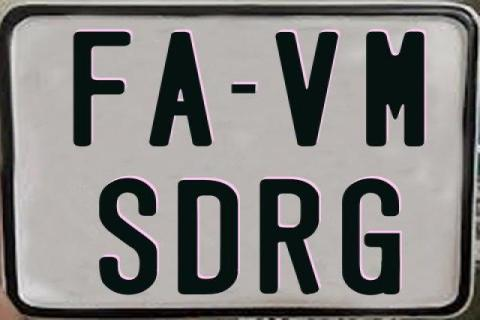A: (146, 31, 213, 149)
D: (177, 180, 238, 295)
F: (73, 31, 134, 147)
G: (339, 176, 398, 296)
M: (363, 29, 421, 144)
R: (258, 177, 320, 293)
S: (96, 176, 157, 298)
V: (275, 30, 339, 150)
